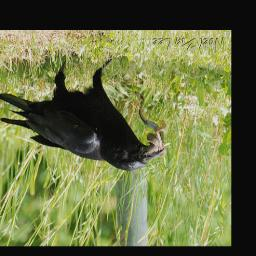Crow: (0, 57, 166, 171)
